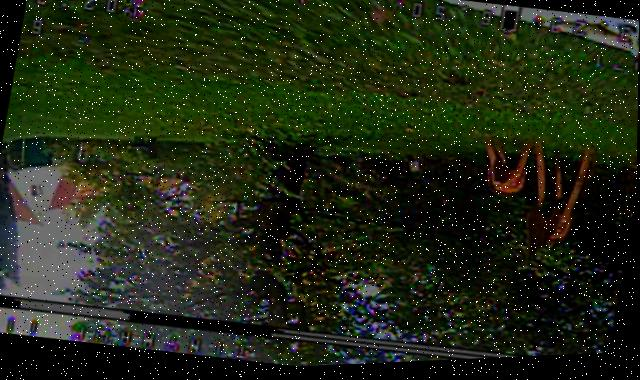horse: (521, 150, 587, 262), (475, 145, 536, 207)
